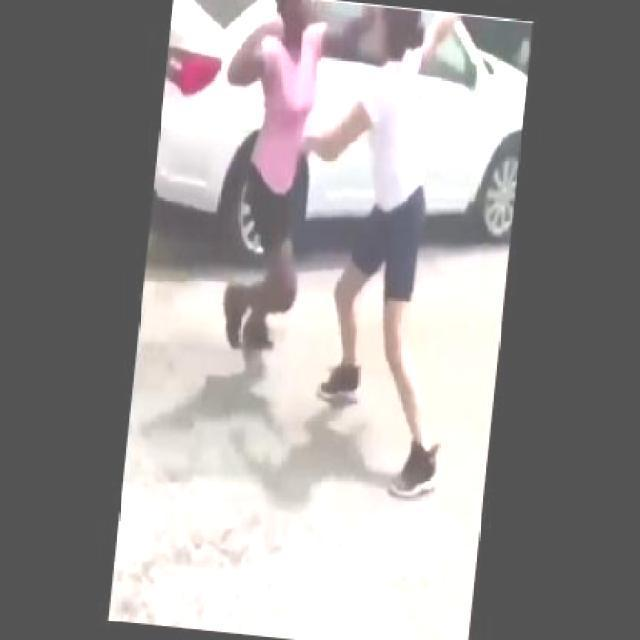fight: (185, 0, 484, 503)
